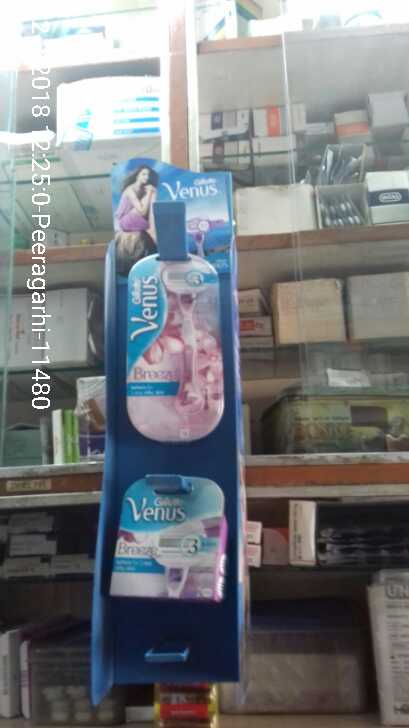venus: (133, 257, 224, 440), (114, 472, 224, 603)
